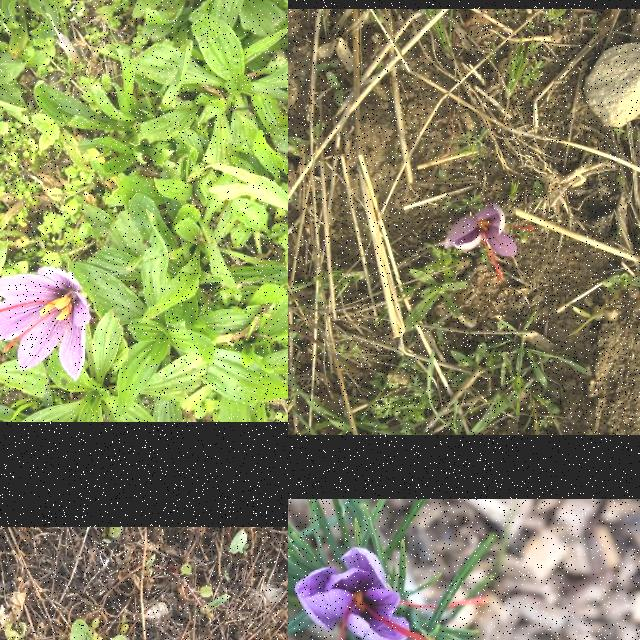flower: (294, 547, 492, 640), (0, 266, 92, 384), (444, 203, 534, 280)
